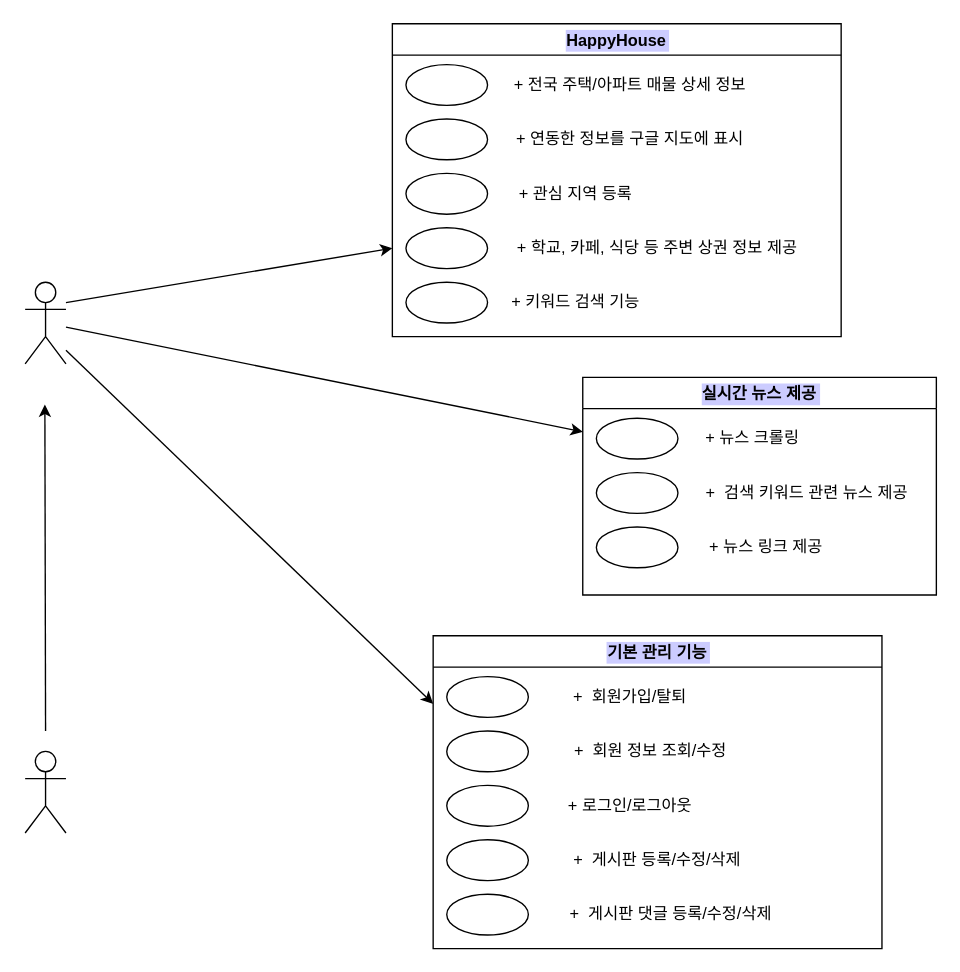
Some shapes in this 960 by 972 pixel diagram are drawn without their labels. Here are the shapes that lost their labels. From the top down, the centre of each, then its label:
At point 45,322: "사용자".
At point 45,791: "관리자".
